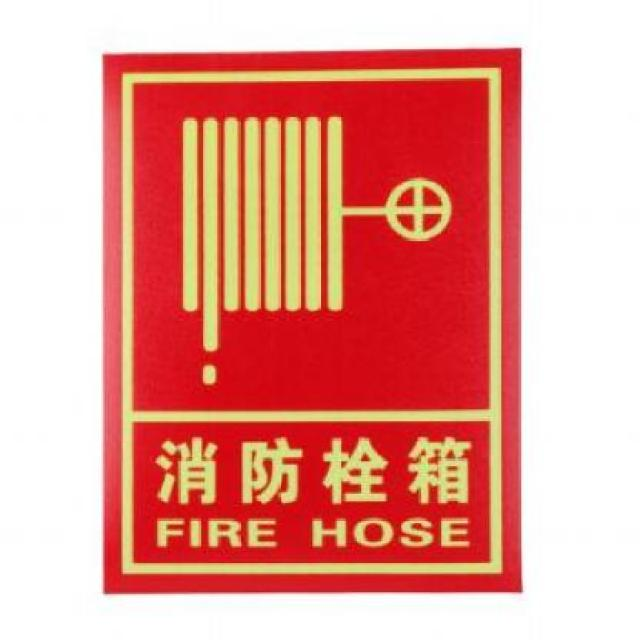firehydrant: (96, 40, 526, 601)
